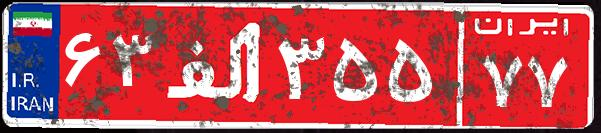3: (273, 28, 330, 110), (110, 28, 158, 105)
5: (385, 28, 445, 110), (330, 28, 385, 110)
6: (57, 26, 110, 107)
7: (475, 38, 525, 113), (525, 38, 570, 115)
الف: (158, 15, 273, 115)
